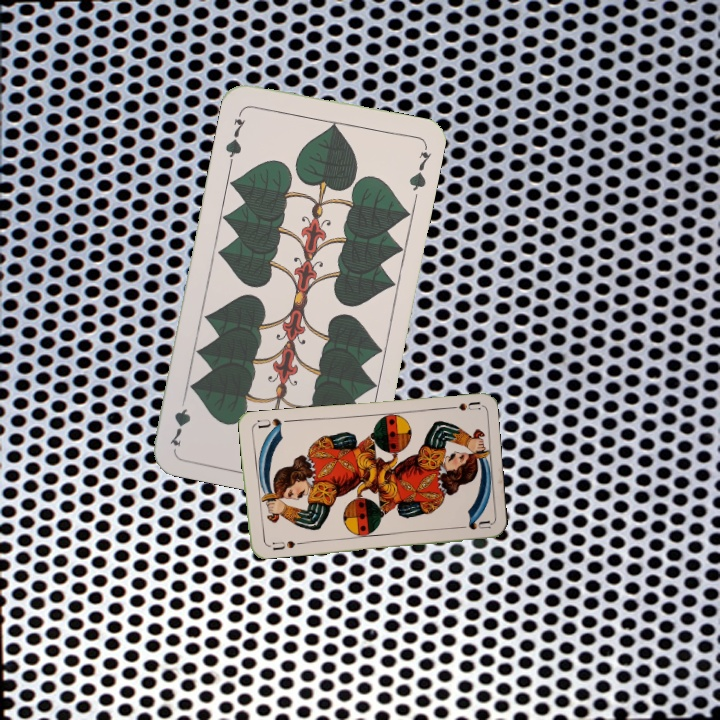G7: (221, 106, 248, 165)
SU: (441, 398, 481, 413), (268, 536, 303, 553)
